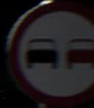No overtake: (14, 12, 90, 88)
